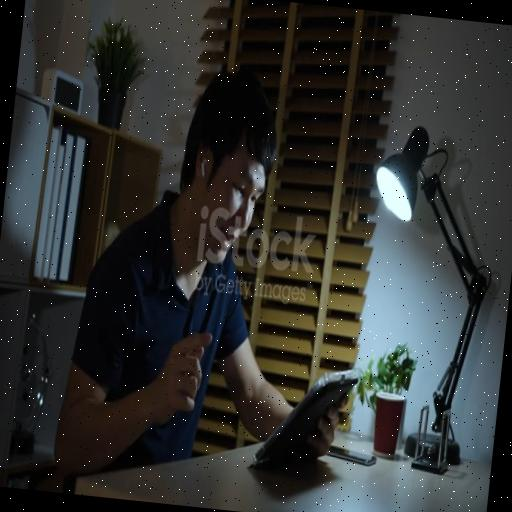earphone: (190, 154, 210, 186)
